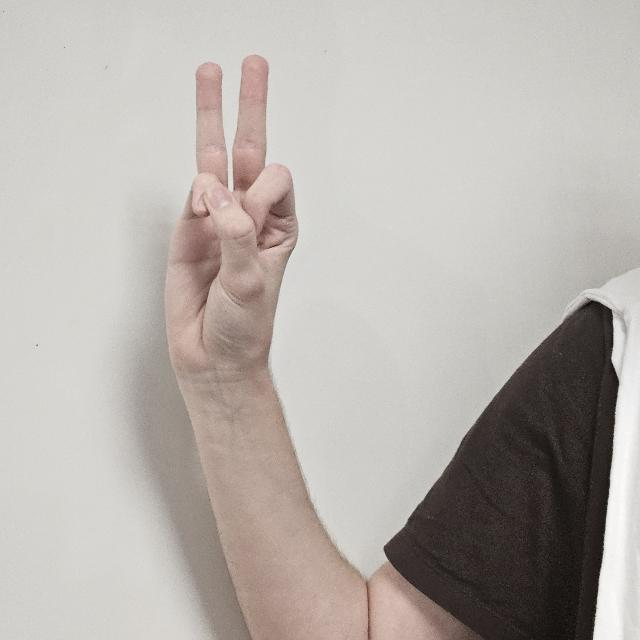R: (166, 51, 300, 423)
